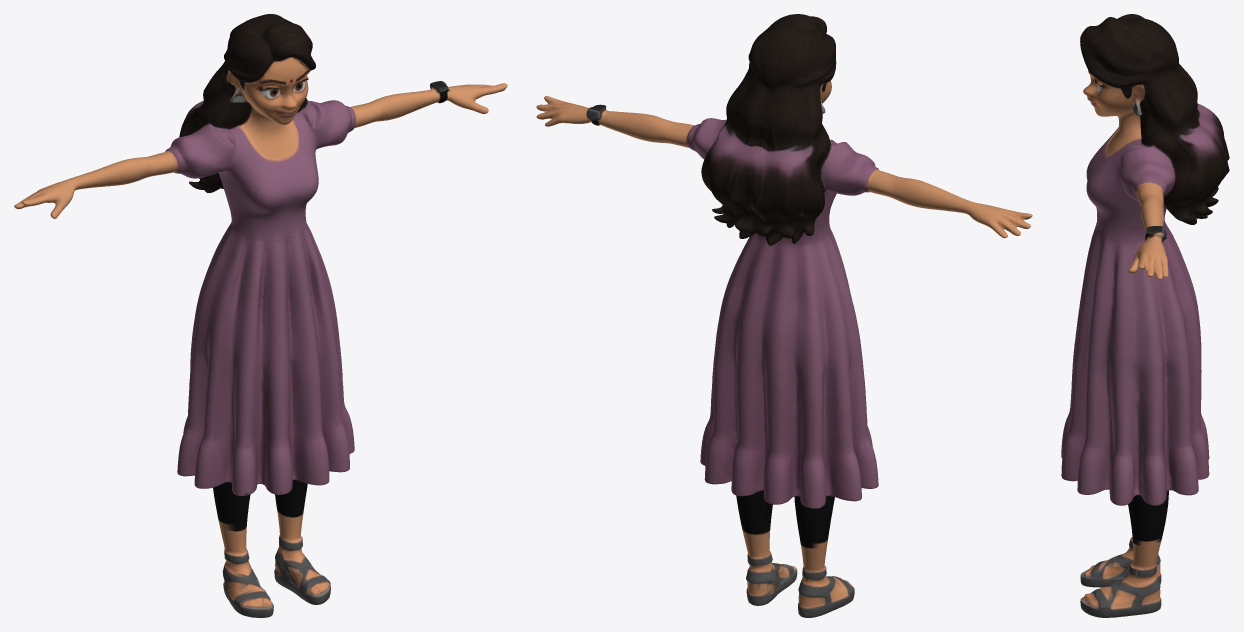
Rendered from preethi_tpose.glb.
3 renders of one model, left to right at view 1: azimuth 30°, elevation 25°; view 2: azimuth 150°, elevation 25°; view 3: azimuth 270°, elevation 25°, orthographic.
Bounding box in the file's own units: 1.69 × 1.9 × 0.5017.
Materials: 1 (1 with a texture image).
